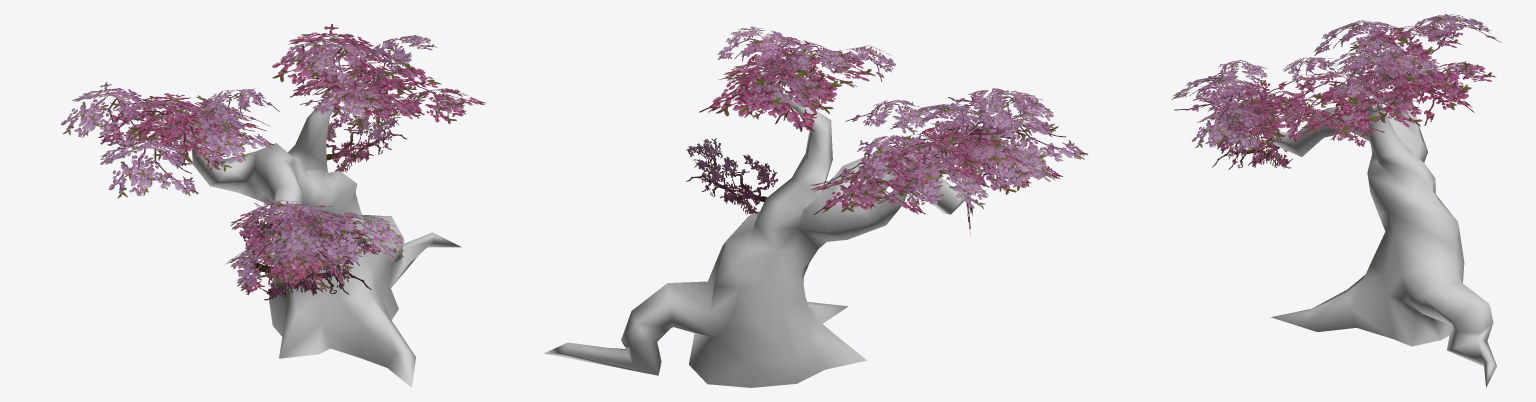
File: environment_Tree_taoshu_001_a.FBX
3 renders of one model, left to right at view 1: azimuth 30°, elevation 25°; view 2: azimuth 150°, elevation 25°; view 3: azimuth 270°, elevation 25°, orthographic. The views are drawn at different scales.
Visible parts, largest first — view 1: environment_Tree_taoshu_001_a_02, environment_Tree_taoshu_001_a_01; view 2: environment_Tree_taoshu_001_a_01, environment_Tree_taoshu_001_a_02; view 3: environment_Tree_taoshu_001_a_01, environment_Tree_taoshu_001_a_02.
Part boxes in pixels (x1,y1,x2,y2): environment_Tree_taoshu_001_a_02: [60, 24, 485, 300]; environment_Tree_taoshu_001_a_01: [190, 79, 461, 387]; environment_Tree_taoshu_001_a_01: [544, 93, 980, 387]; environment_Tree_taoshu_001_a_02: [686, 26, 1087, 235]; environment_Tree_taoshu_001_a_01: [1267, 83, 1496, 387]; environment_Tree_taoshu_001_a_02: [1171, 14, 1501, 169].
Size of the model in its own units: 422 by 356 by 266.
